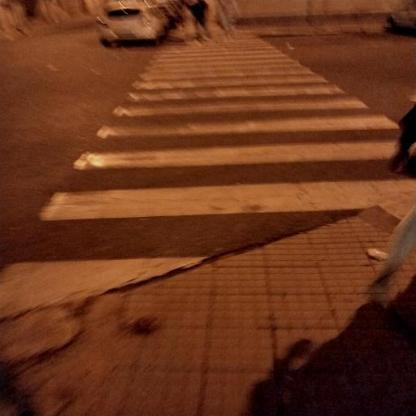crosswalk: (58, 114, 416, 176)
